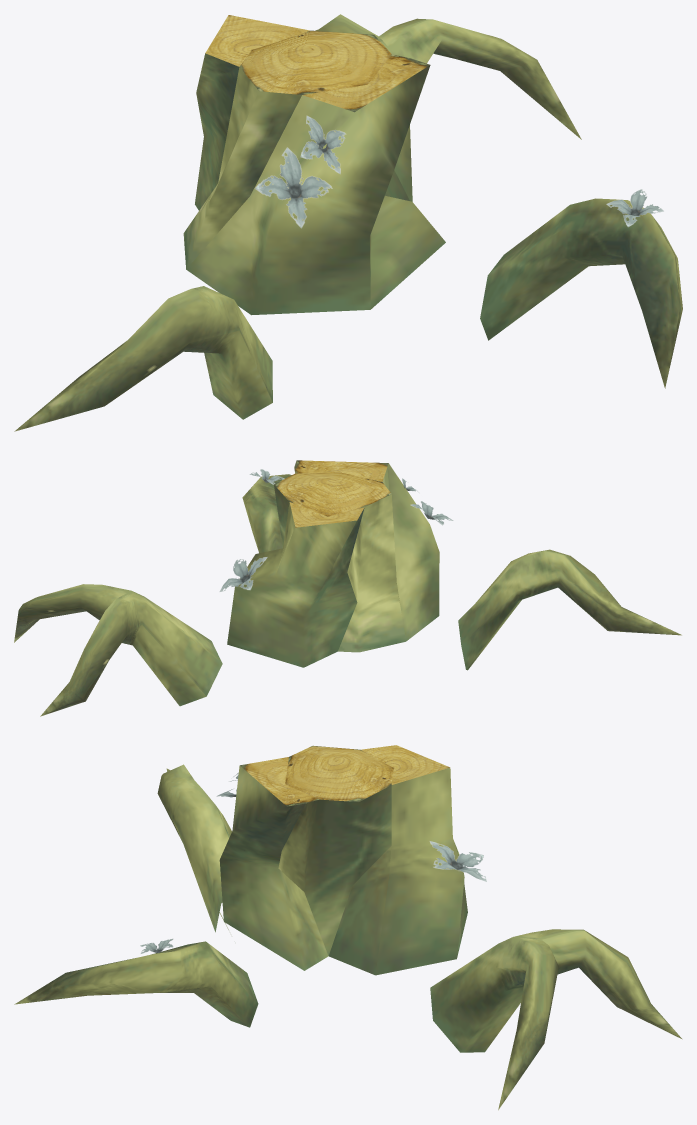
3 renders of one model, top to bottom at view 1: azimuth 30°, elevation 25°; view 2: azimuth 150°, elevation 25°; view 3: azimuth 270°, elevation 25°, orthographic. The views are drawn at different scales.
Parts seen in each view (by area): view 1: Dead_Stump_Big, Root02, Root03, Root01, Flower01, Flower02; view 2: Dead_Stump_Big, Root01, Root03, Root02, Flower03; view 3: Dead_Stump_Big, Root01, Root02, Root03, Flower03.
Boxes of the visible parts, x1,y1,x2,y2 form: Dead_Stump_Big: [183, 15, 445, 315]; Root02: [480, 198, 682, 388]; Root03: [14, 286, 272, 431]; Root01: [315, 14, 581, 201]; Flower01: [255, 115, 345, 228]; Flower02: [606, 189, 663, 226]; Dead_Stump_Big: [227, 460, 439, 667]; Root01: [14, 584, 222, 716]; Root03: [458, 549, 681, 670]; Root02: [242, 474, 291, 553]; Flower03: [219, 557, 267, 591]; Dead_Stump_Big: [219, 745, 467, 975]; Root01: [430, 929, 682, 1110]; Root02: [14, 941, 258, 1027]; Root03: [157, 764, 231, 932]; Flower03: [429, 841, 486, 881].
Size of the model in its own units: 415 by 153 by 387.
7 materials, 7 textured.
